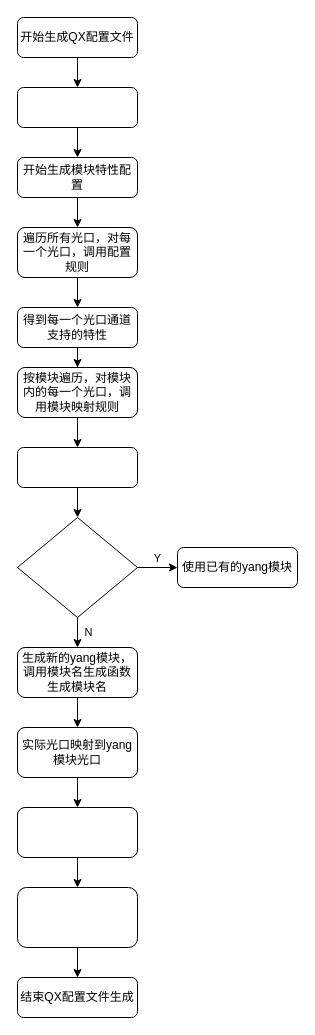
Image size: 315x1035. Some labels were removed from this diagram. Here are the shapes that lost their labels. From the top down, the centre of each, then its label:
At point (77, 107): "生成固定配置".
At point (77, 467): "得到每个模块对应到yang模块".
At point (77, 567): "是已有的yang模块?".
At point (77, 832): "模块特性配置生成完成".
At point (77, 917): "MON口关联光口生成，找到同模块内与MON口有同一个源光口的光口".
